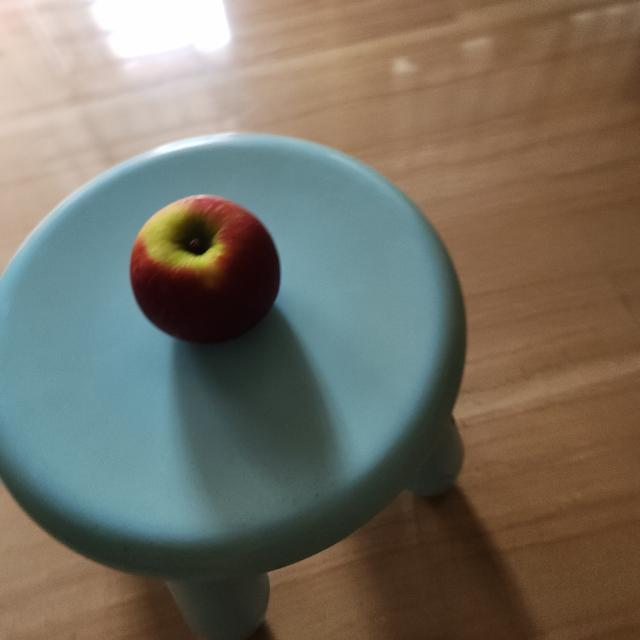apple: (124, 186, 291, 355)
